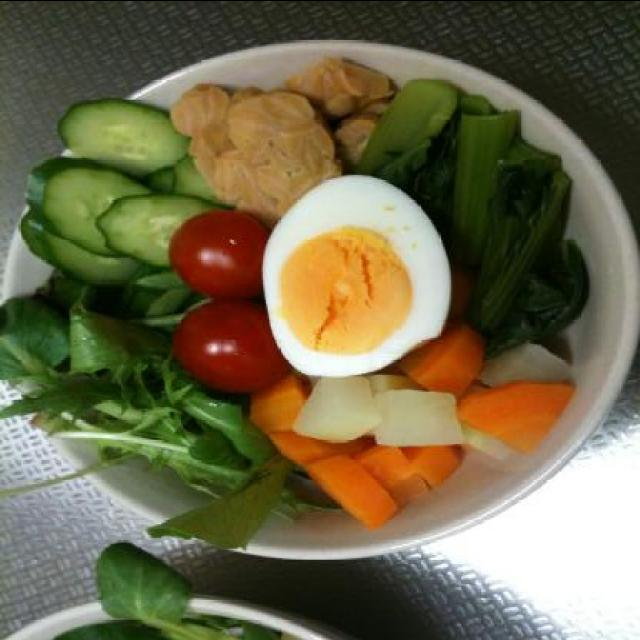Carrot: (251, 374, 463, 506), (456, 381, 576, 456), (301, 452, 399, 532), (397, 325, 486, 397)
